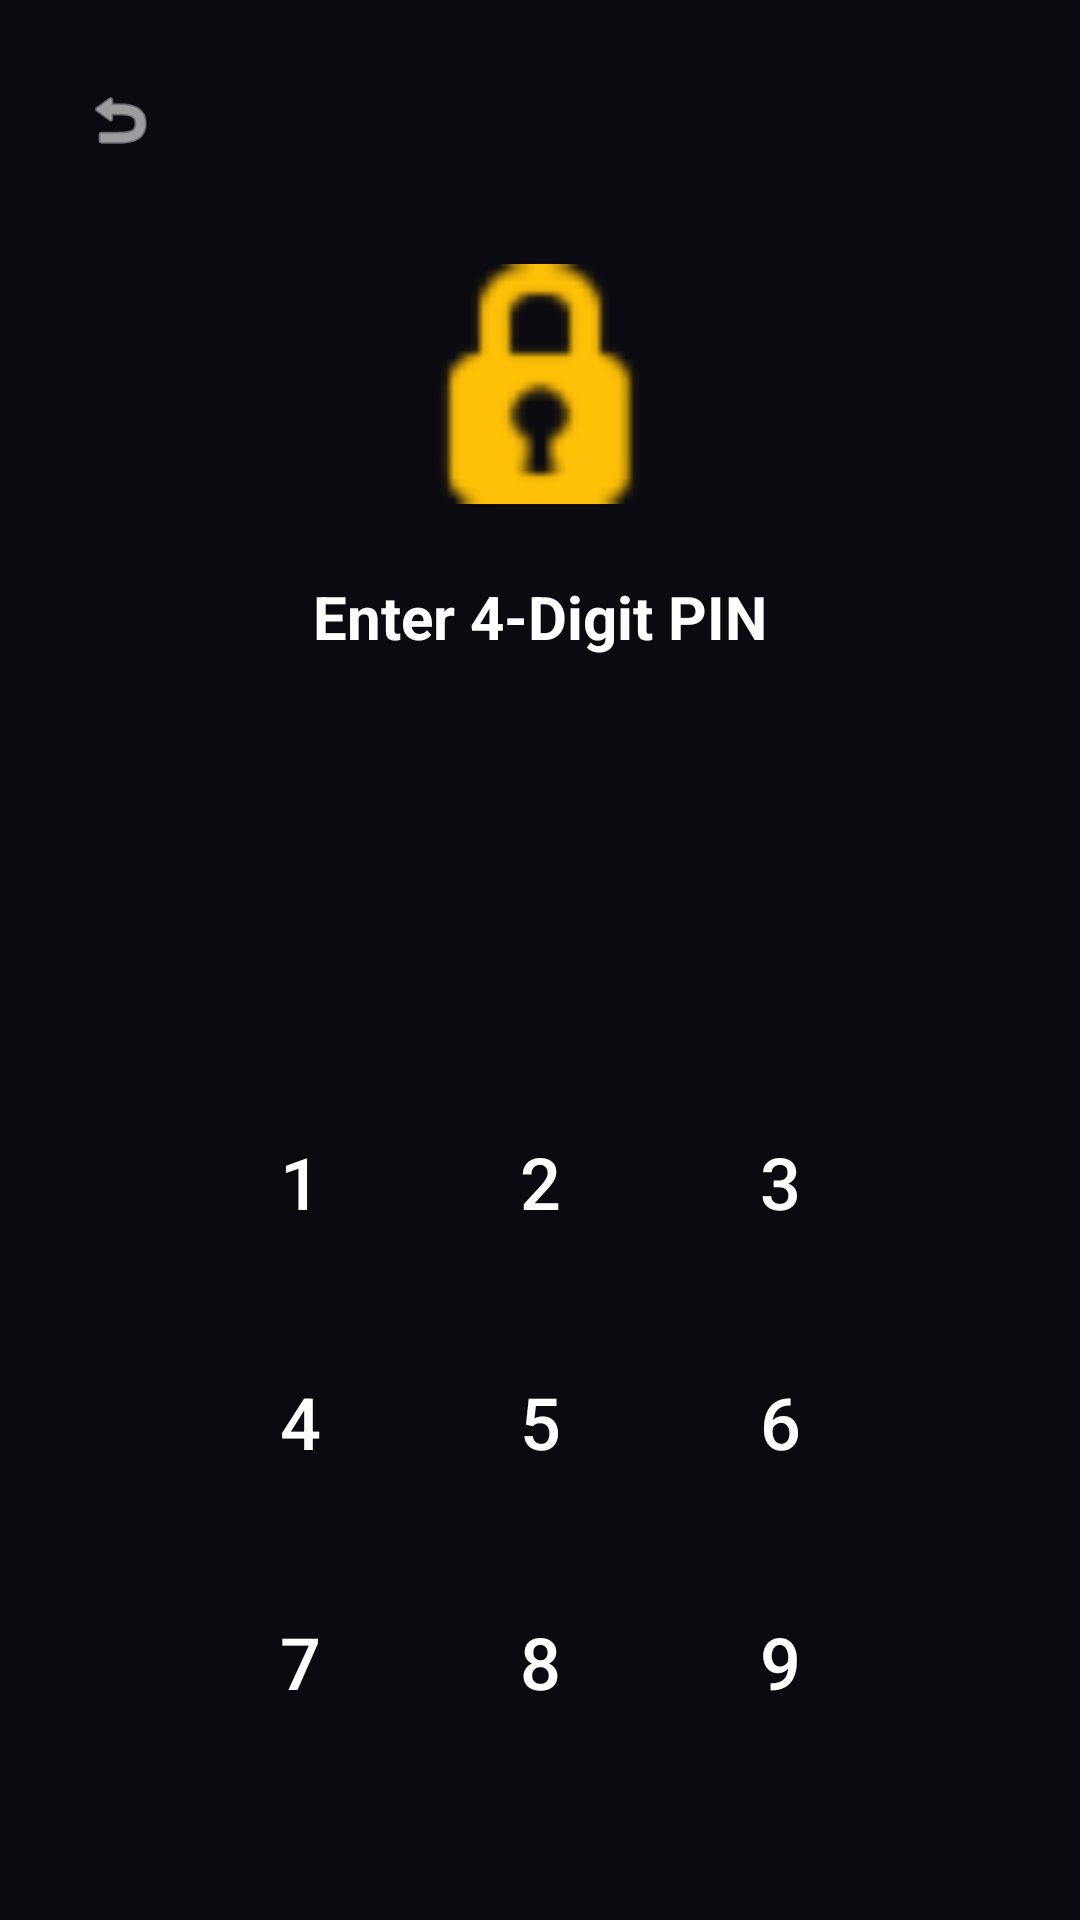

Screen size 1080px x 1920px. Icon name, then its center in pixels as point (x, y):
revert: point (121, 120)
secure: point (538, 384)
